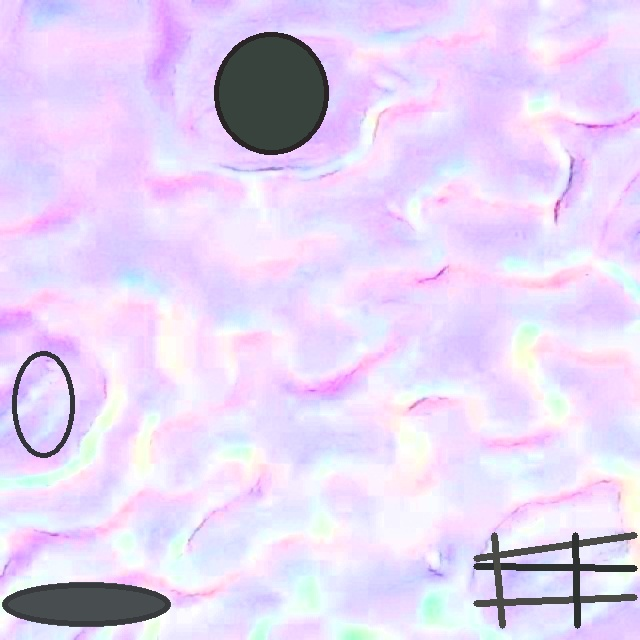open: (473, 532, 637, 628), (214, 32, 328, 154), (3, 582, 170, 625), (12, 349, 74, 458)
